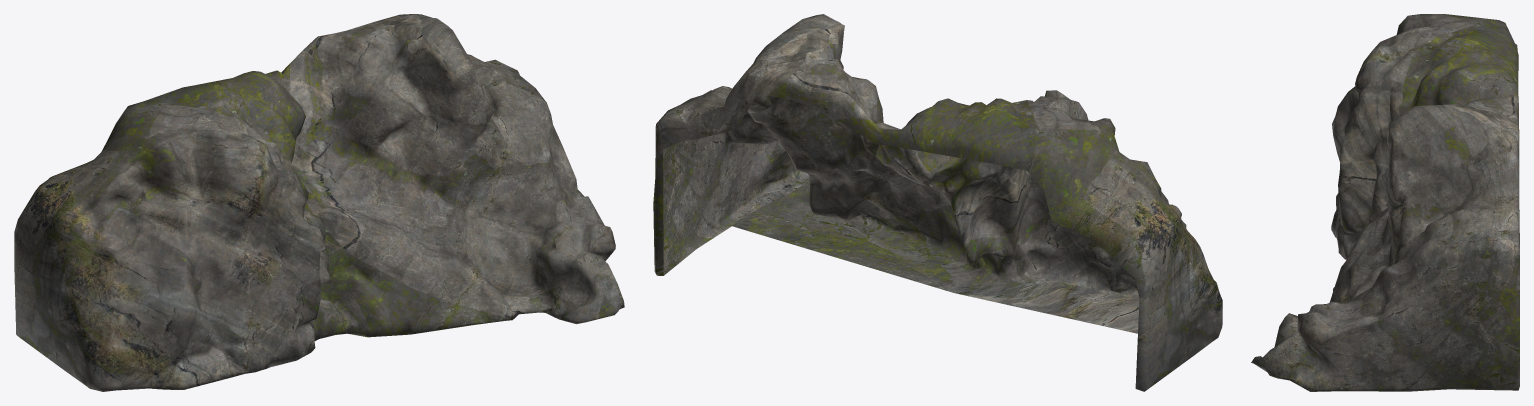
File: Rock5.fbx
3 renders of one model, left to right at view 1: azimuth 30°, elevation 25°; view 2: azimuth 150°, elevation 25°; view 3: azimuth 270°, elevation 25°, orthographic. The views are drawn at different scales.
Visible parts, largest first — view 1: LV_Campagna_Rock_Stone01_SM_HSH; view 2: LV_Campagna_Rock_Stone01_SM_HSH; view 3: LV_Campagna_Rock_Stone01_SM_HSH.
Boxes of the visible parts, box(x1,y1,x2,y2) form: LV_Campagna_Rock_Stone01_SM_HSH: box(14, 14, 624, 391); LV_Campagna_Rock_Stone01_SM_HSH: box(653, 14, 1222, 391); LV_Campagna_Rock_Stone01_SM_HSH: box(1251, 14, 1519, 391).
Size of the model in its own units: 9.78 by 4.76 by 4.96.
1 material, 1 textured.
